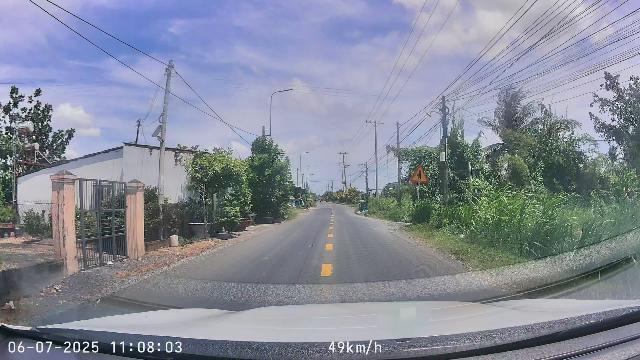207-giao-nhau-voi-duong-khong-uu-tien: (410, 166, 428, 183)
